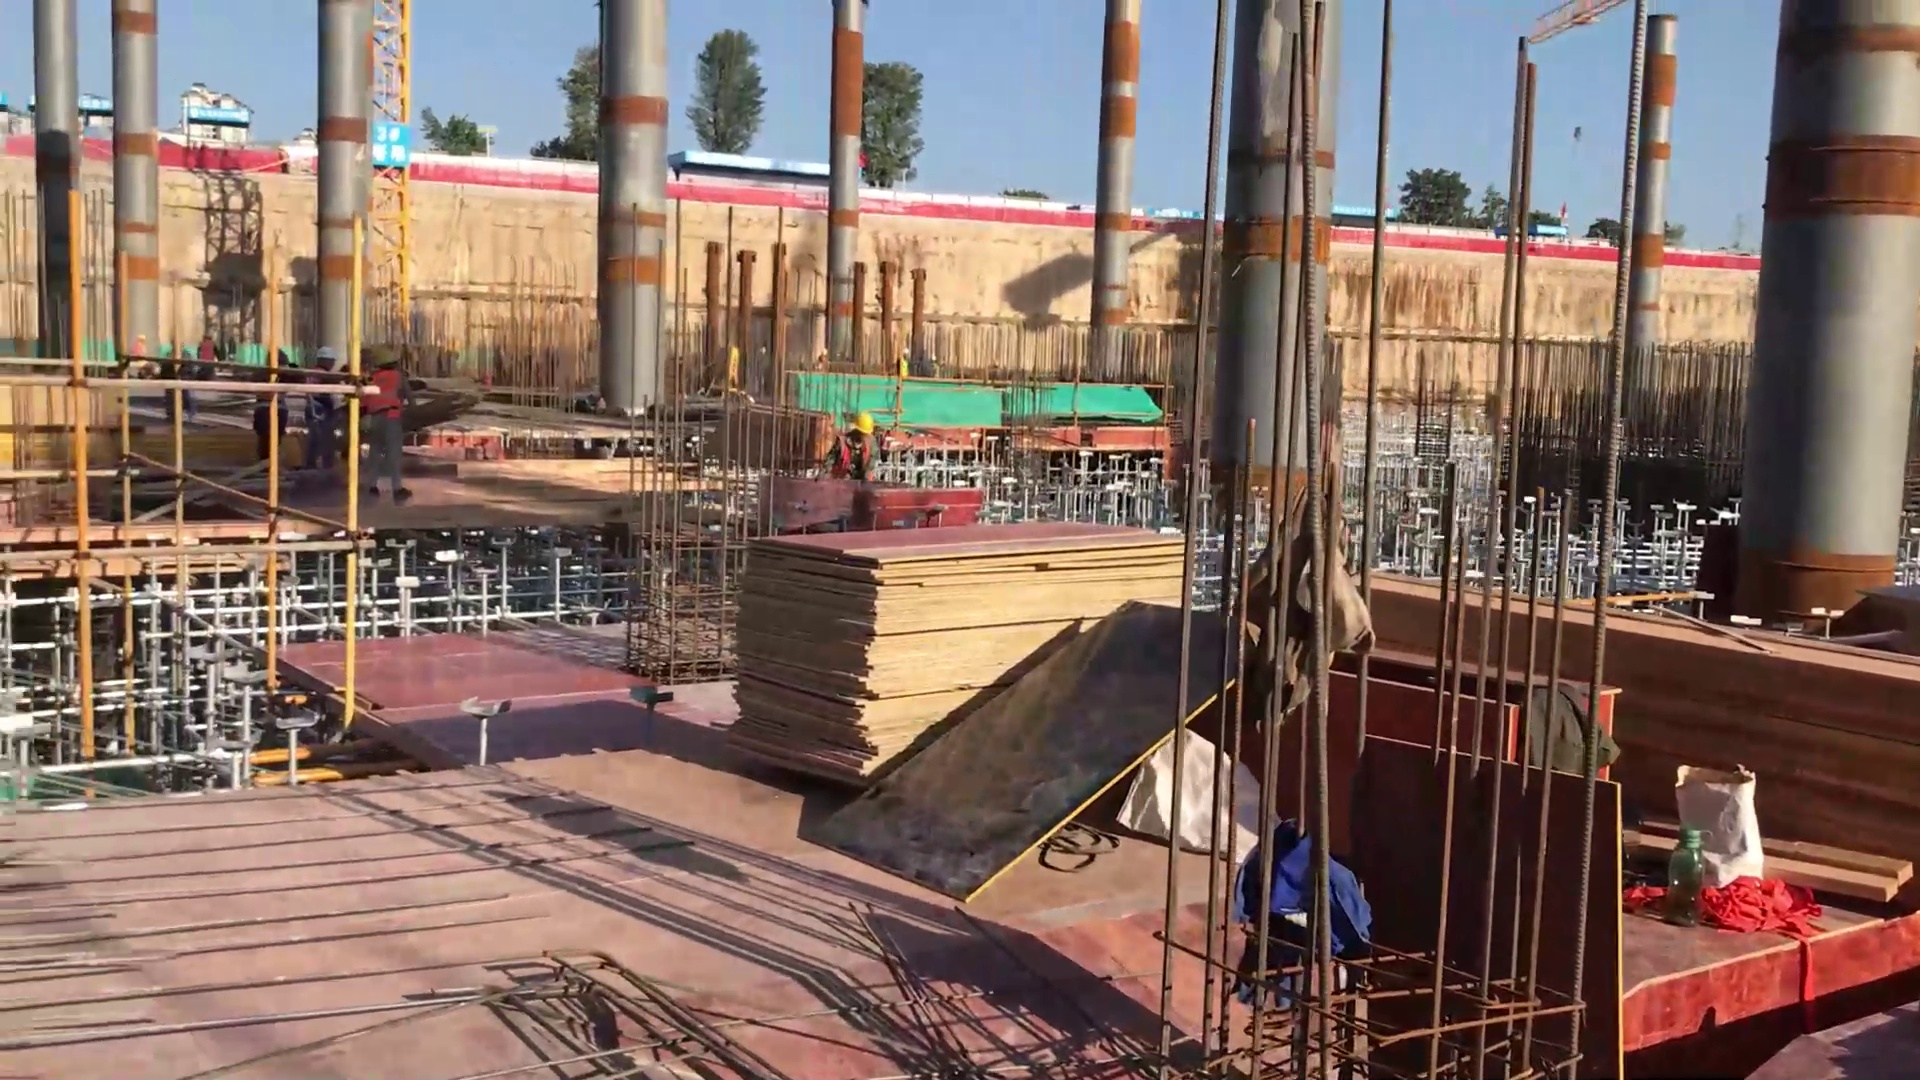board: (717, 521, 1212, 795)
ebox: (700, 340, 743, 402)
helmet: (845, 410, 877, 439), (370, 340, 404, 367)
person: (355, 339, 424, 508), (818, 406, 887, 489)
vest: (364, 371, 408, 421), (833, 439, 877, 482)
wood: (1346, 562, 1920, 934)
